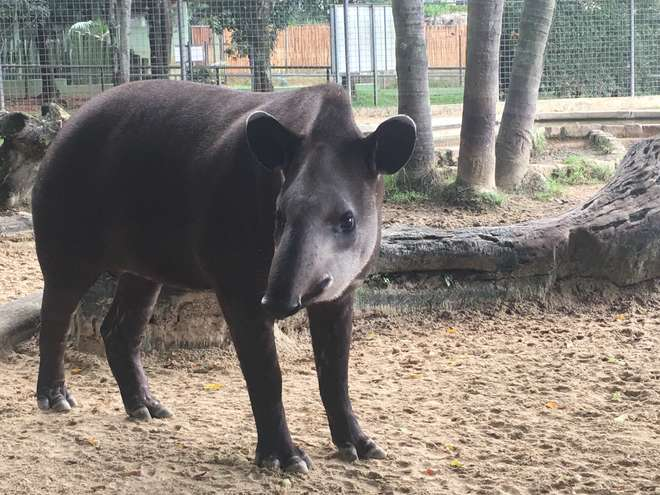Anta: (29, 75, 415, 475)
